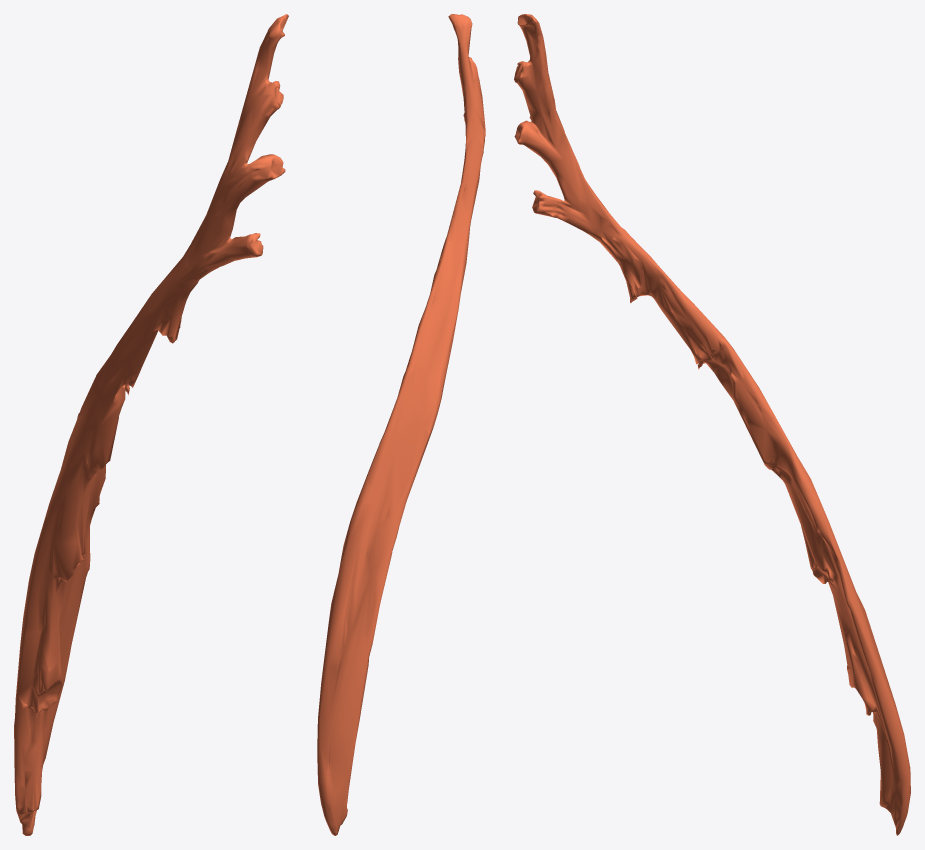
The model's file is Longissimus_colli_muscle.r_Generated_Mesh_From_X3D.373.glb.
The picture shows the model from 3 angles, left to right: view 1: azimuth 30°, elevation 25°; view 2: azimuth 150°, elevation 25°; view 3: azimuth 270°, elevation 25°; orthographic projection. The views are drawn at different scales.
Parts seen in each view (by area): view 1: Longissimus_colli_muscle.r_Generated_Mesh_From_X3D.373; view 2: Longissimus_colli_muscle.r_Generated_Mesh_From_X3D.373; view 3: Longissimus_colli_muscle.r_Generated_Mesh_From_X3D.373.
Part boxes in pixels (bbox=[...]): Longissimus_colli_muscle.r_Generated_Mesh_From_X3D.373: bbox=[14, 14, 288, 835]; Longissimus_colli_muscle.r_Generated_Mesh_From_X3D.373: bbox=[317, 14, 485, 835]; Longissimus_colli_muscle.r_Generated_Mesh_From_X3D.373: bbox=[514, 14, 910, 835].
Bounding box in the file's own units: 0.0191 × 0.1895 × 0.0813.
